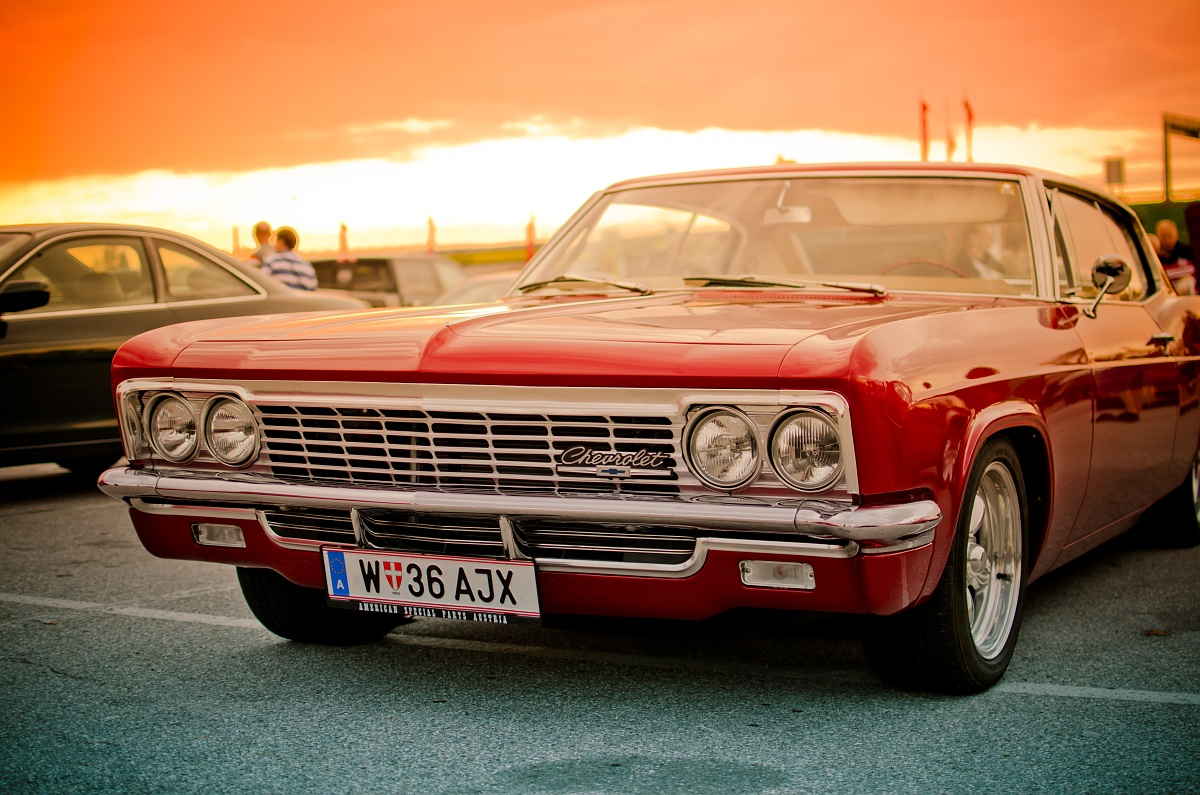other: (110, 177, 1200, 699), (0, 201, 388, 487)
